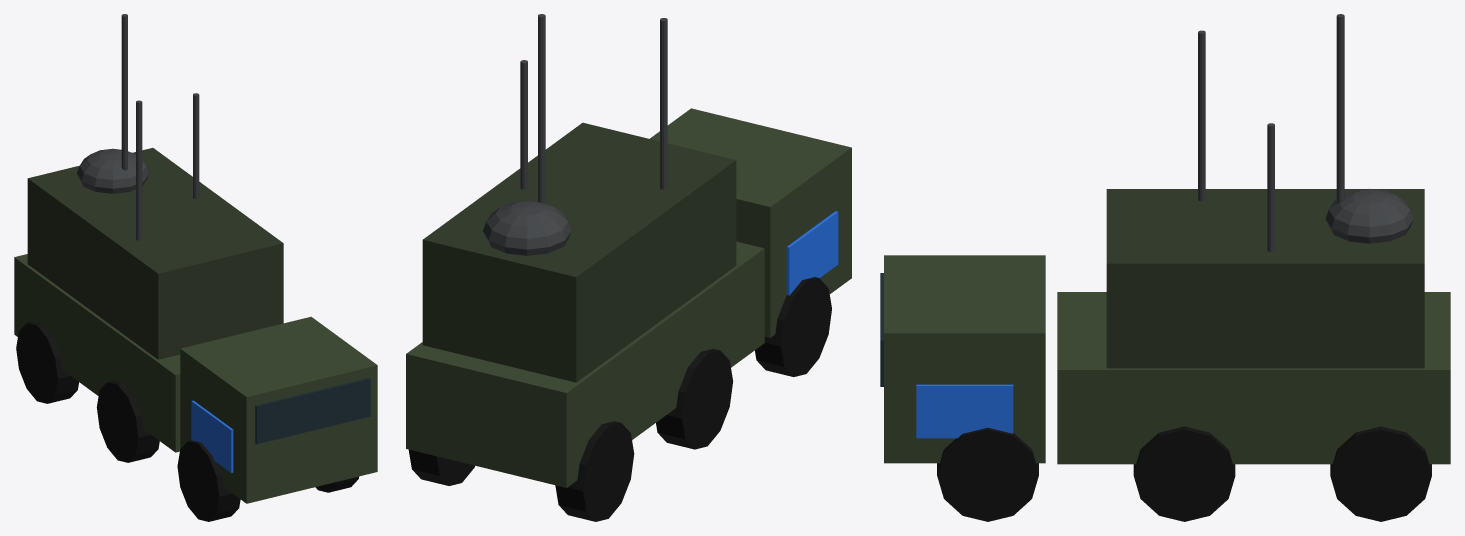
File: ru_ew_vehicle.glb
3 renders of one model, left to right at view 1: azimuth 30°, elevation 25°; view 2: azimuth 150°, elevation 25°; view 3: azimuth 270°, elevation 25°, orthographic. The views are drawn at different scales.
Visible parts, largest first — view 1: ew_shelter, cab, body, windshield, wheel_l2, wheel_l1, wheel_l0, ew_dome, team_door_l, antenna_2, antenna_0, antenna_1; view 2: ew_shelter, body, cab, wheel_l2, wheel_l1, wheel_l0, ew_dome, team_door_l, antenna_2, wheel_r2, antenna_0, antenna_1; view 3: ew_shelter, body, cab, wheel_r1, wheel_r2, wheel_r0, team_door_r, ew_dome, antenna_2, antenna_0, antenna_1.
Part boxes in pixels (left/top/right/bottom): ew_shelter: left=27, top=148, right=283, bottom=359; cab: left=180, top=316, right=377, bottom=503; body: left=14, top=254, right=180, bottom=452; windshield: left=255, top=378, right=370, bottom=444; wheel_l2: left=16, top=321, right=78, bottom=403; wheel_l1: left=96, top=381, right=159, bottom=462; wheel_l0: left=177, top=440, right=240, bottom=521; ew_dome: left=77, top=148, right=148, bottom=193; team_door_l: left=191, top=400, right=233, bottom=472; antenna_2: left=121, top=14, right=127, bottom=170; antenna_0: left=136, top=100, right=142, bottom=240; antenna_1: left=193, top=93, right=199, bottom=198; ew_shelter: left=422, top=122, right=736, bottom=382; body: left=406, top=241, right=764, bottom=487; cab: left=650, top=108, right=851, bottom=337; wheel_l2: left=555, top=421, right=634, bottom=521; wheel_l1: left=656, top=349, right=733, bottom=449; wheel_l0: left=755, top=277, right=831, bottom=376; ew_dome: left=483, top=200, right=571, bottom=255; team_door_l: left=786, top=211, right=838, bottom=295; antenna_2: left=538, top=14, right=545, bottom=203; wheel_r2: left=408, top=449, right=474, bottom=485; antenna_0: left=660, top=18, right=667, bottom=189; antenna_1: left=520, top=60, right=527, bottom=189; ew_shelter: left=1106, top=189, right=1424, bottom=368; body: left=1057, top=292, right=1450, bottom=464; cab: left=884, top=255, right=1045, bottom=463; wheel_r1: left=1133, top=426, right=1235, bottom=521; wheel_r2: left=1330, top=426, right=1431, bottom=521; wheel_r0: left=937, top=427, right=1038, bottom=521; team_door_r: left=916, top=384, right=1013, bottom=438; ew_dome: left=1325, top=188, right=1413, bottom=243; antenna_2: left=1336, top=14, right=1344, bottom=203; antenna_0: left=1198, top=30, right=1205, bottom=201; antenna_1: left=1267, top=123, right=1274, bottom=252.
Bounding box in the file's own units: 2.6 × 6.64 × 7.39.
